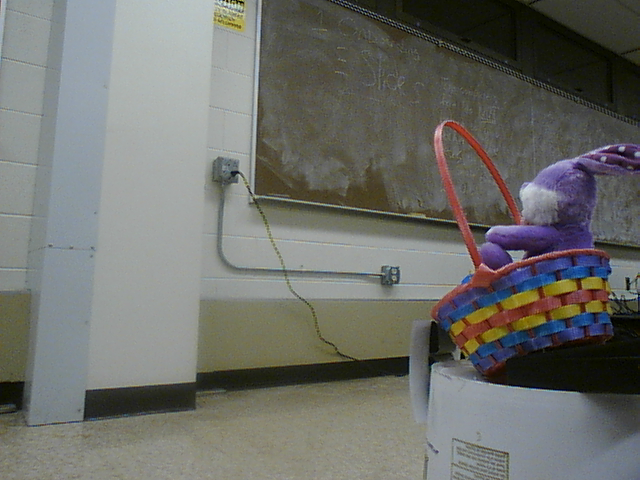bunny: (425, 108, 640, 375)
